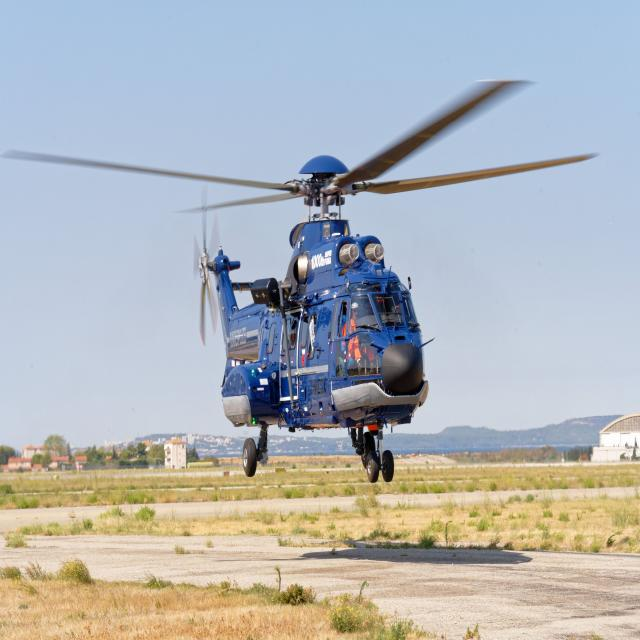helicopter: (5, 65, 607, 492)
